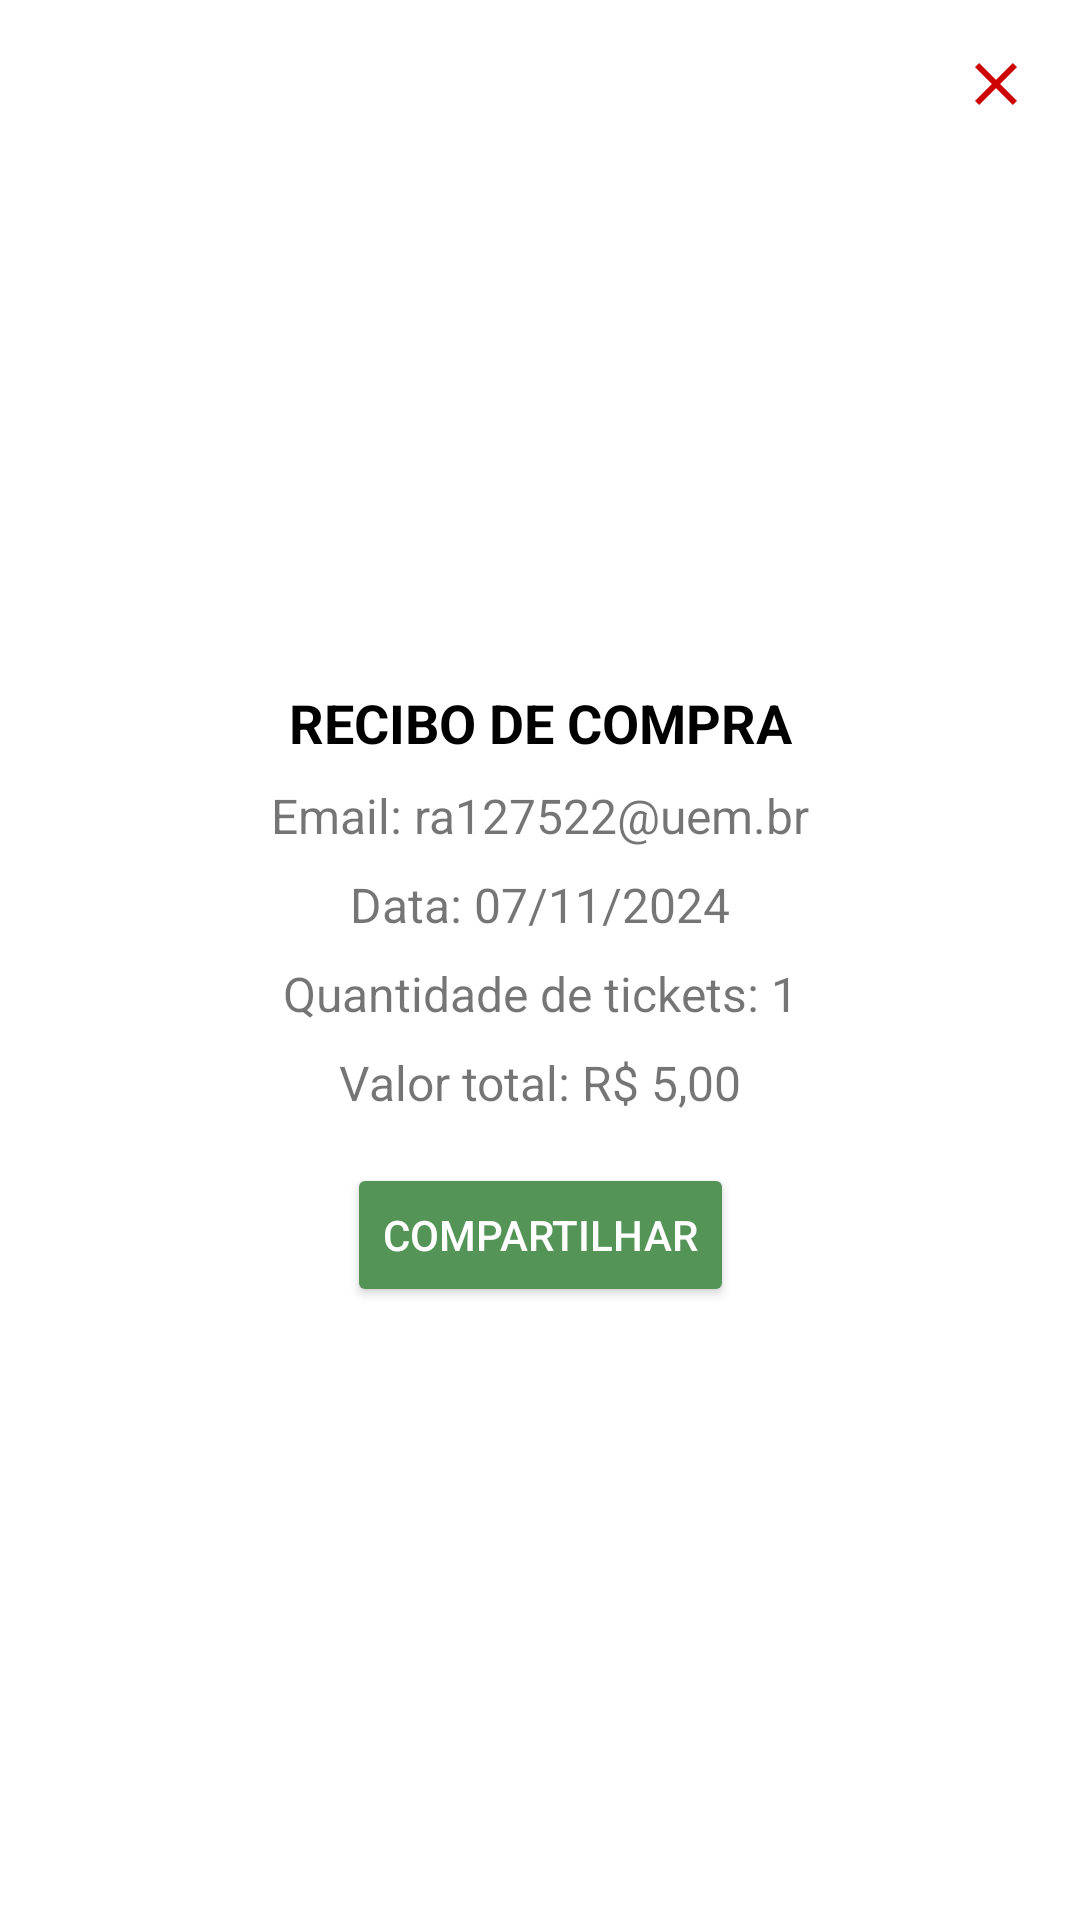

Icon click points for this 1080 x 1920 phone screenshot, format (x=x, y=y):
Fechar: (x=996, y=84)
